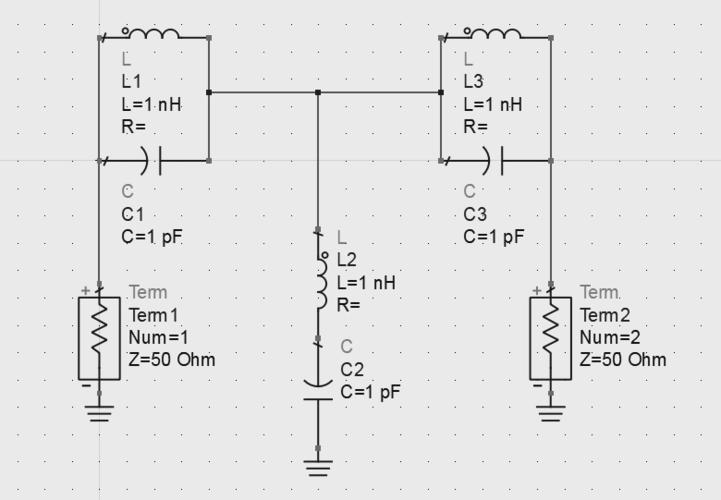cap2: (297, 373, 338, 409), (135, 142, 170, 181), (479, 140, 511, 179)
inductance: (120, 22, 186, 46), (310, 247, 332, 316), (462, 22, 528, 45)
res2: (86, 302, 112, 361), (538, 302, 563, 360)
